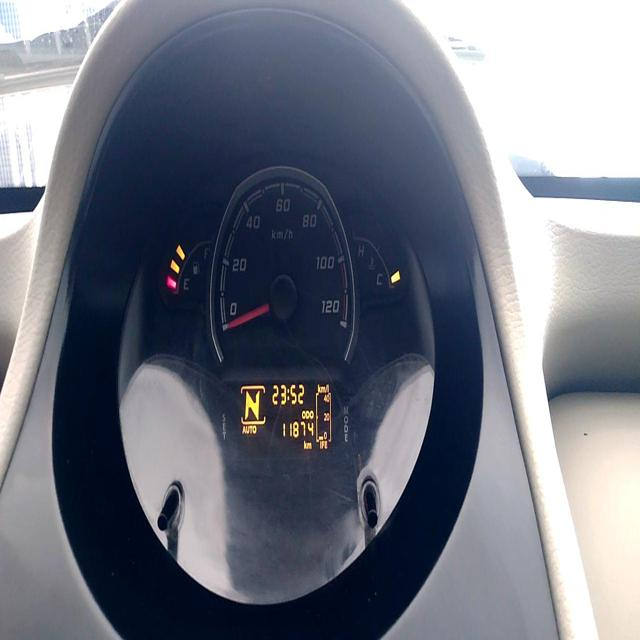odometer: (281, 420, 315, 438)
